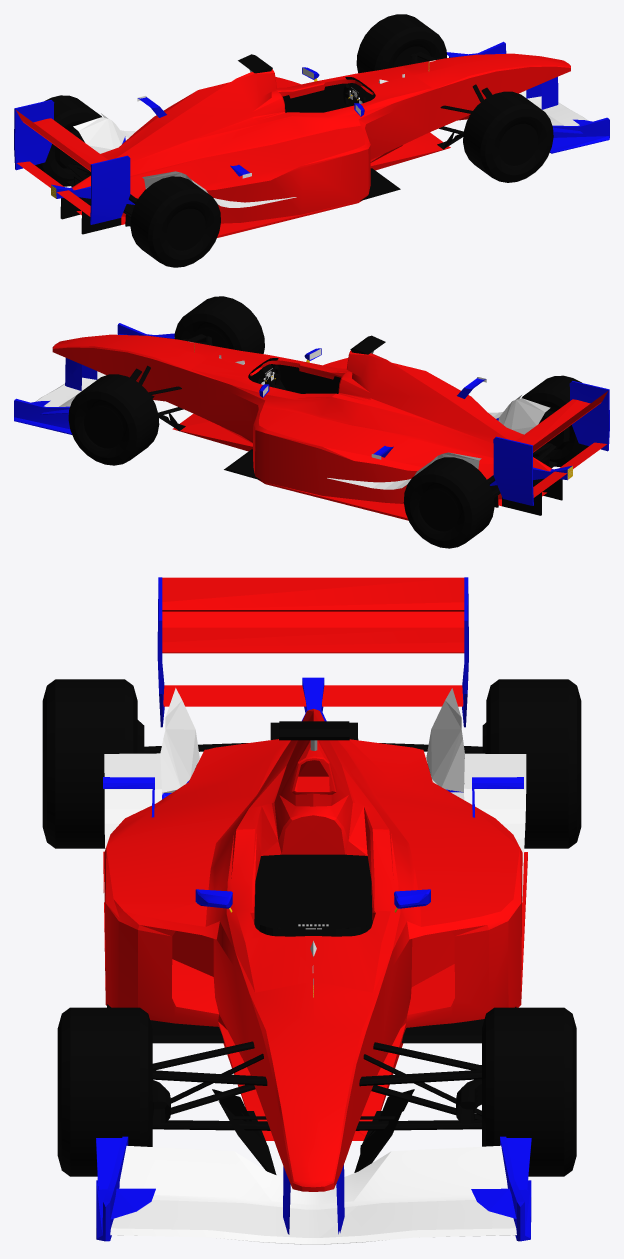
The picture shows the model from 3 angles, top to bottom: view 1: azimuth 30°, elevation 25°; view 2: azimuth 150°, elevation 25°; view 3: azimuth 270°, elevation 25°; orthographic projection. The views are drawn at different scales.
Parts seen in each view (by area): view 1: SketchUp_030, SketchUp_217, SketchUp_003, SketchUp_213, SketchUp_018, SketchUp_015, SketchUp_215, SketchUp_177, SketchUp_026, SketchUp_041, SketchUp_012, SketchUp_060 (+6 smaller); view 2: SketchUp_030, SketchUp_213, SketchUp_215, SketchUp_003, SketchUp_015, SketchUp_018, SketchUp_217, SketchUp_179, SketchUp_027, SketchUp_183, SketchUp_012, SketchUp_060 (+7 smaller); view 3: SketchUp_030, SketchUp_028, SketchUp_213, SketchUp_003, SketchUp_010, SketchUp_012, SketchUp_217, SketchUp_215, SketchUp_014, SketchUp_190, SketchUp_019, SketchUp_036 (+17 smaller).
Part boxes in pixels (x1,y1,x2,y2): SketchUp_030: (71, 53, 570, 237); SketchUp_217: (130, 176, 220, 267); SketchUp_003: (463, 91, 553, 182); SketchUp_213: (356, 14, 446, 73); SketchUp_018: (90, 155, 130, 224); SketchUp_015: (14, 100, 54, 170); SketchUp_215: (35, 95, 101, 186); SketchUp_177: (282, 83, 361, 112); SketchUp_026: (550, 117, 609, 153); SketchUp_041: (73, 117, 128, 153); SketchUp_012: (22, 118, 107, 171); SketchUp_060: (60, 197, 134, 234); SketchUp_030: (52, 334, 552, 520); SketchUp_213: (68, 374, 159, 465); SketchUp_215: (403, 457, 494, 548); SketchUp_003: (174, 296, 264, 353); SketchUp_015: (493, 436, 533, 505); SketchUp_018: (569, 381, 609, 451); SketchUp_217: (522, 375, 588, 466); SketchUp_179: (262, 364, 340, 393); SketchUp_027: (14, 398, 72, 434); SketchUp_183: (499, 398, 550, 434); SketchUp_012: (515, 399, 601, 452); SketchUp_060: (490, 478, 562, 515); SketchUp_030: (103, 708, 527, 1191); SketchUp_028: (119, 1145, 507, 1209); SketchUp_213: (482, 1007, 576, 1176); SketchUp_003: (57, 1007, 152, 1176); SketchUp_010: (110, 1199, 516, 1244); SketchUp_012: (162, 611, 464, 653); SketchUp_217: (42, 679, 137, 848); SketchUp_215: (486, 679, 581, 848); SketchUp_014: (162, 577, 464, 611); SketchUp_190: (254, 854, 372, 930); SketchUp_019: (163, 685, 463, 706); SketchUp_036: (152, 1085, 481, 1130).
Bounding box in the file's own units: 0.8888 × 0.4016 × 0.2049.
